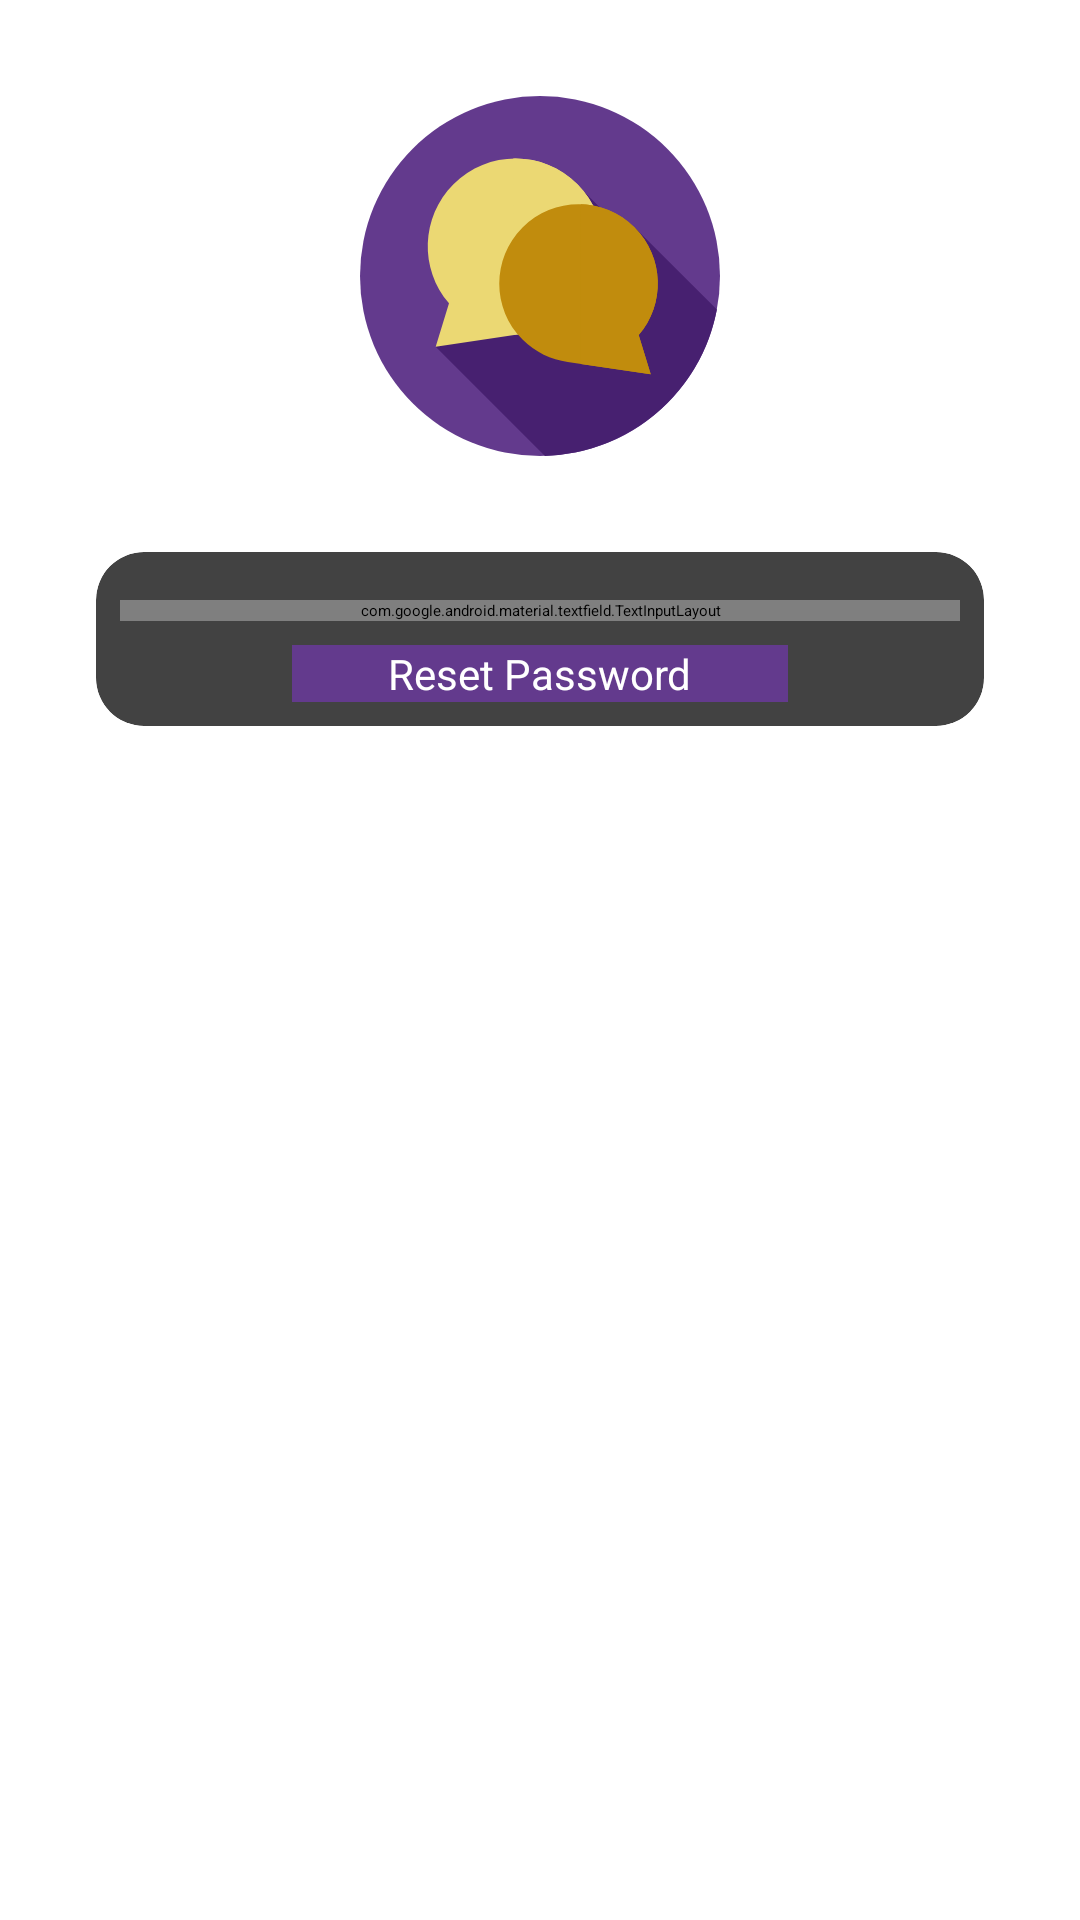

Screen size 1080 x 1920. Icon name, then its box in pixels as (x1, y1, x2, y2):
chat bubble: (360, 96, 720, 456)
